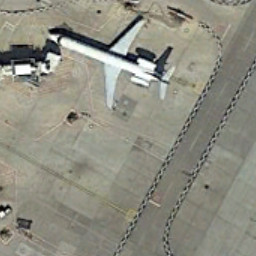Airplane: (34, 10, 186, 118)
